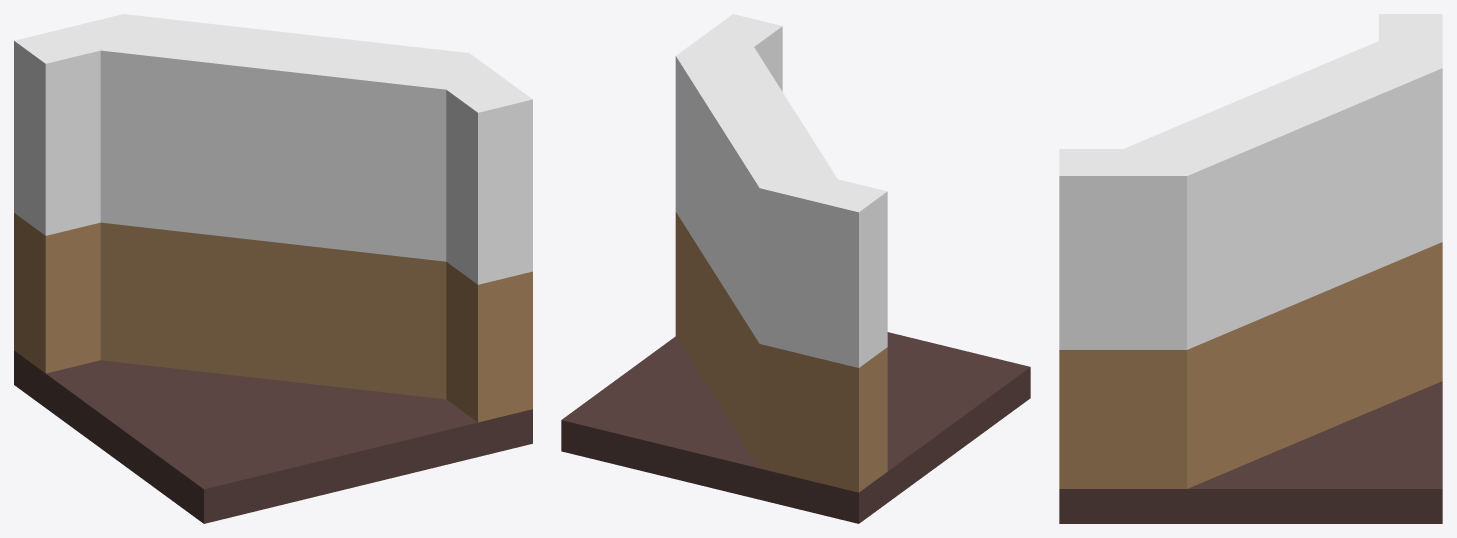
Rendered from wall_45.FBX.
3 views of the same model, side by side, from view 1: azimuth 30°, elevation 25°; view 2: azimuth 150°, elevation 25°; view 3: azimuth 270°, elevation 25° (orthographic). The views are drawn at different scales.
Visible parts, largest first — view 1: Object263; view 2: Object263; view 3: Object263.
Boxes of the visible parts, box(x1,y1,x2,y2) form: Object263: box(14, 14, 532, 523); Object263: box(561, 14, 1030, 523); Object263: box(1059, 14, 1442, 523).
Size of the model in its own units: 100 by 100 by 100.
